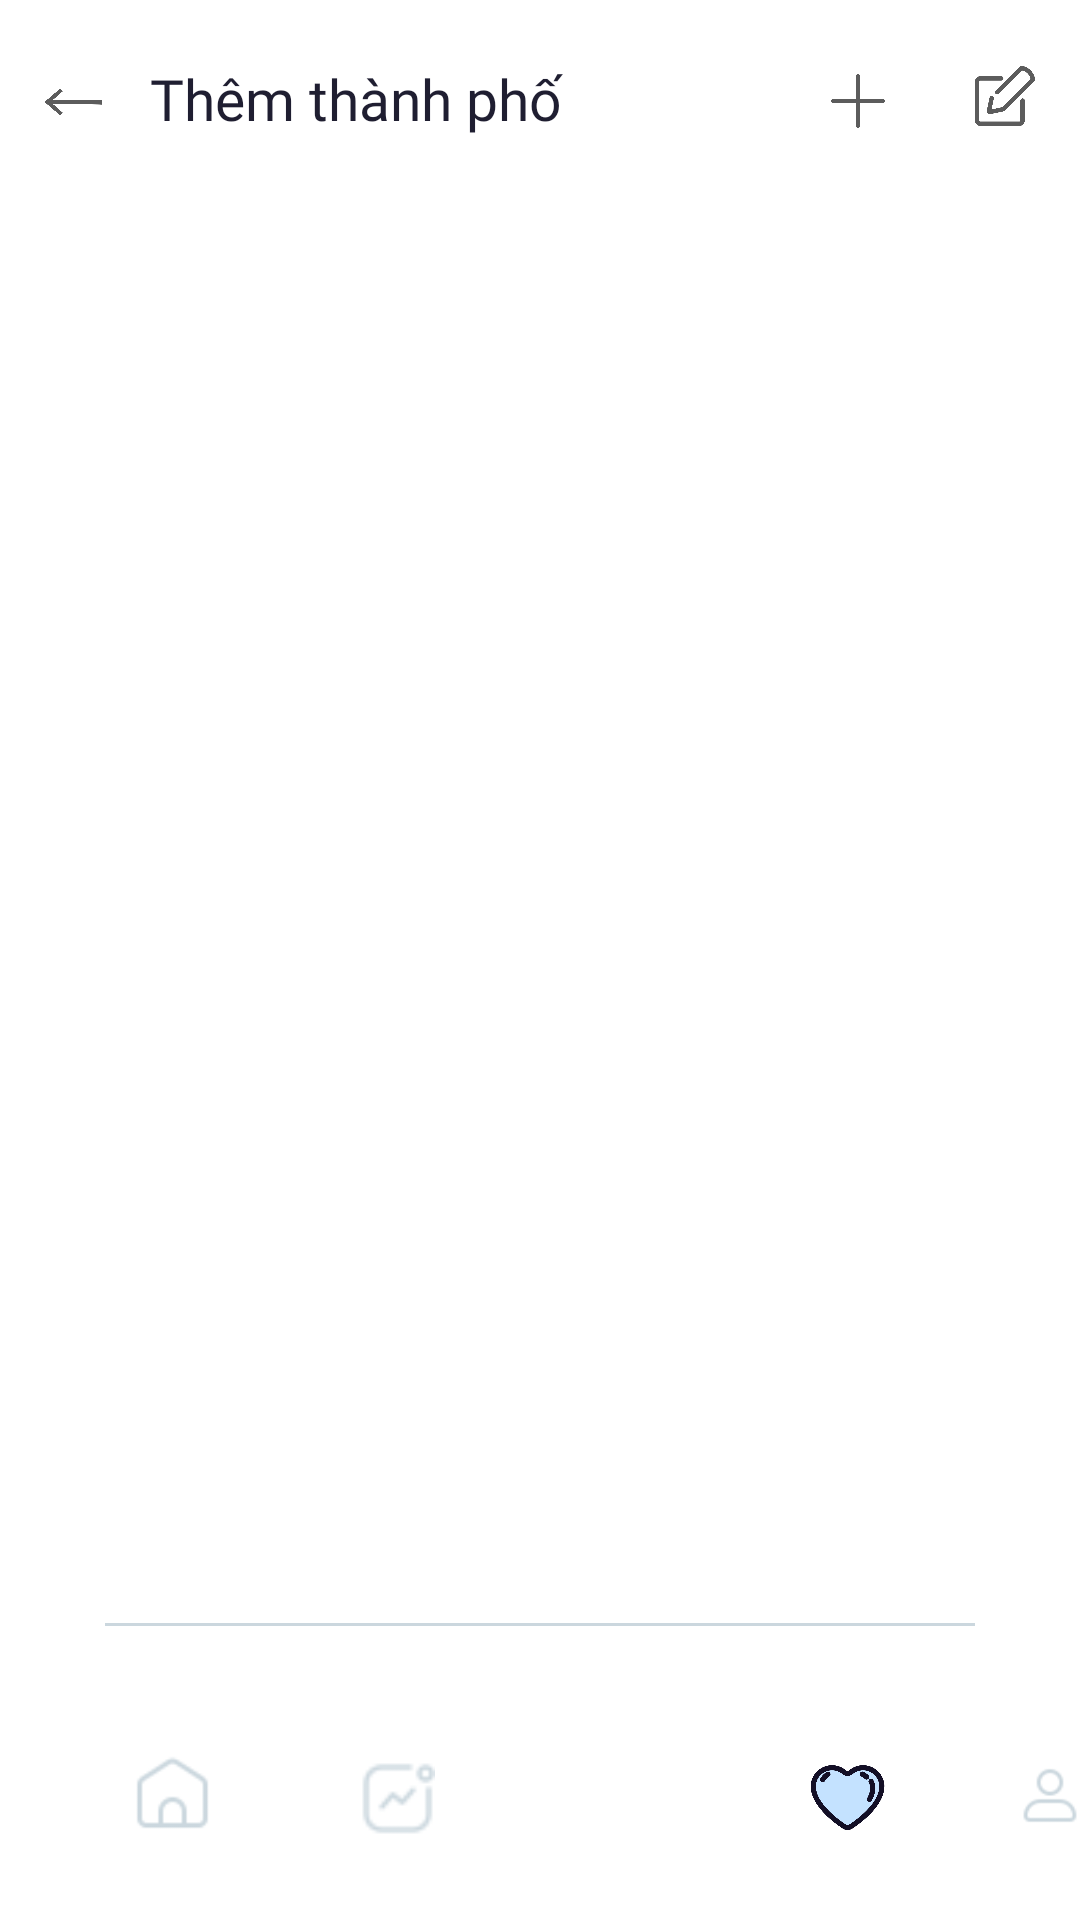

Point at icon controls on the screen. Image size 1080px x 1920px, points as (x=x, y=y).
edit: (x=1005, y=96)
favorite: (x=848, y=1797)
home: (x=172, y=1793)
left: (x=73, y=102)
line chart: (x=399, y=1798)
plus: (x=858, y=101)
userinfo: (x=1050, y=1795)
